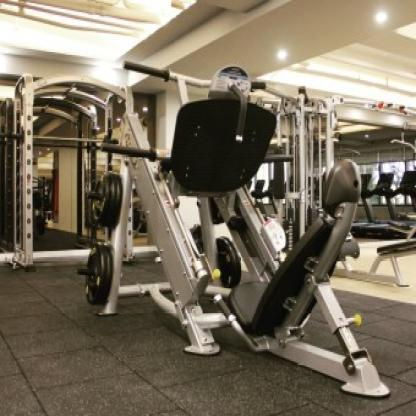leg press: (62, 48, 396, 409)
